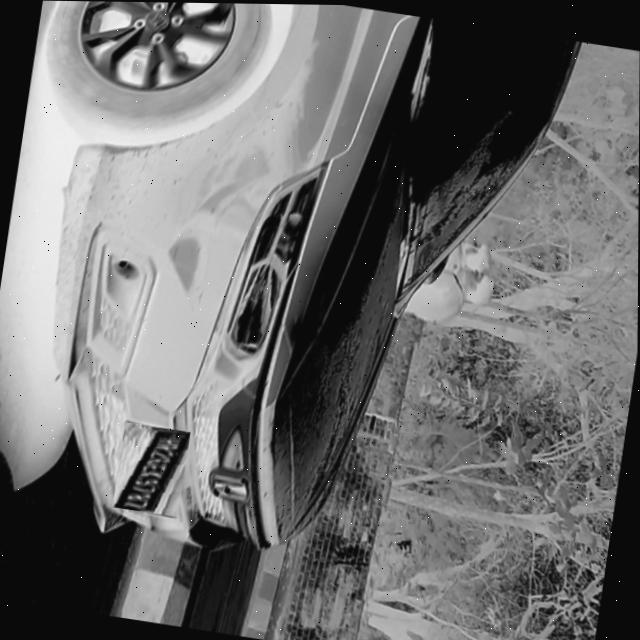Non_registered: (113, 422, 190, 517)
